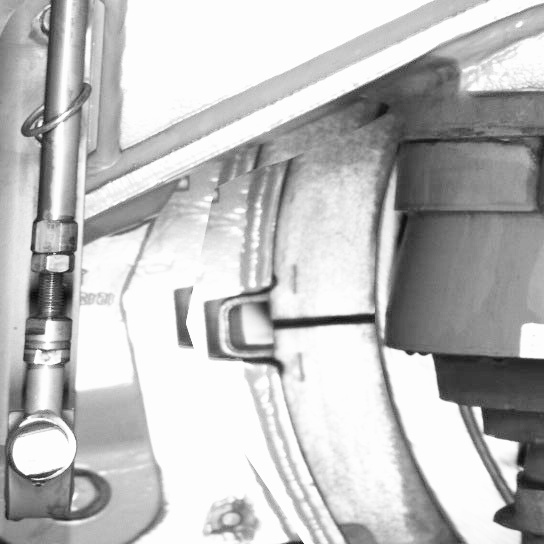ClosedKnifeSwitch: (217, 139, 470, 542)
